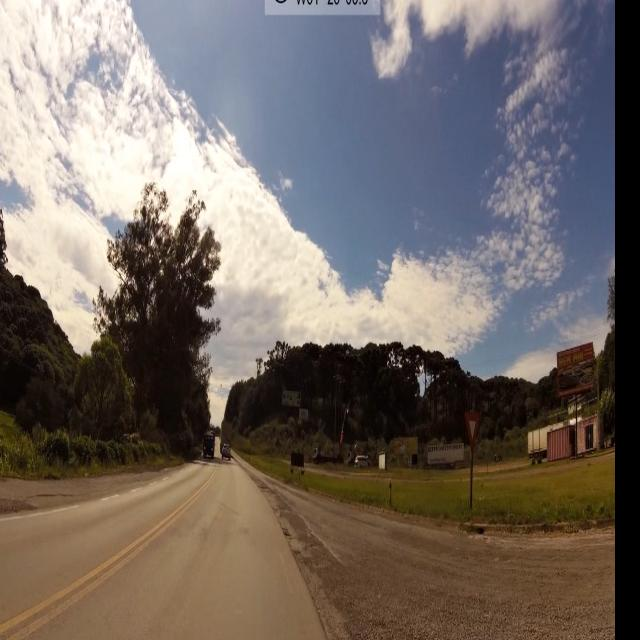R-2: (463, 406, 484, 453)
